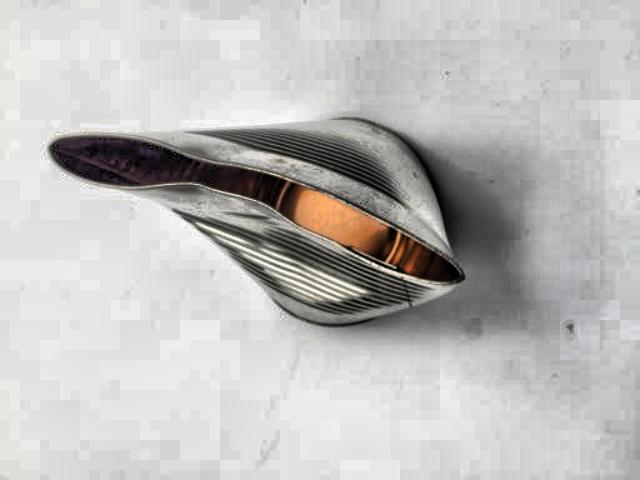Almennt: (46, 87, 481, 336)
